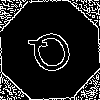Q: (25, 25, 81, 86)
